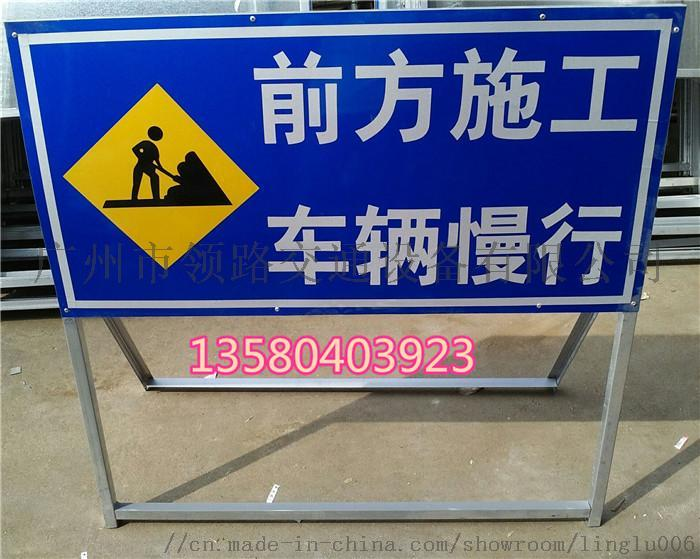sign: (5, 20, 684, 530)
